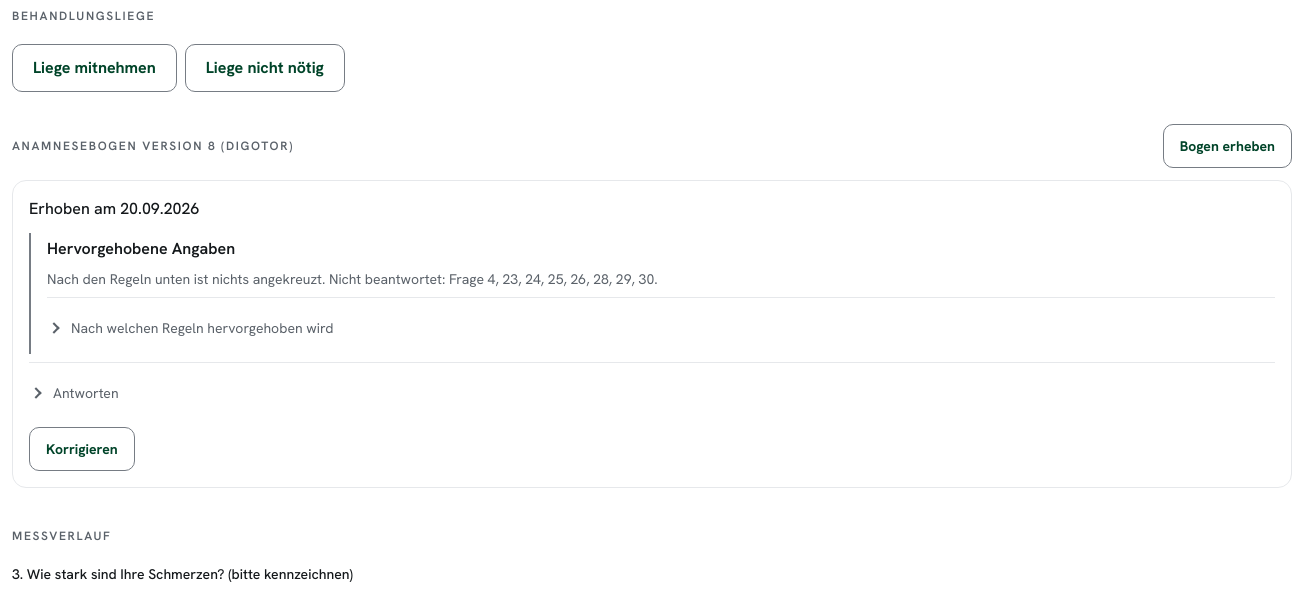
Befund der Akte › zeigt die Antworten wörtlich und die offenen Fragen als Nummern
The width and height of the screenshot is (1292, 593).
Click the heading "Antworten" at (74, 393), box [30,384,119,402]
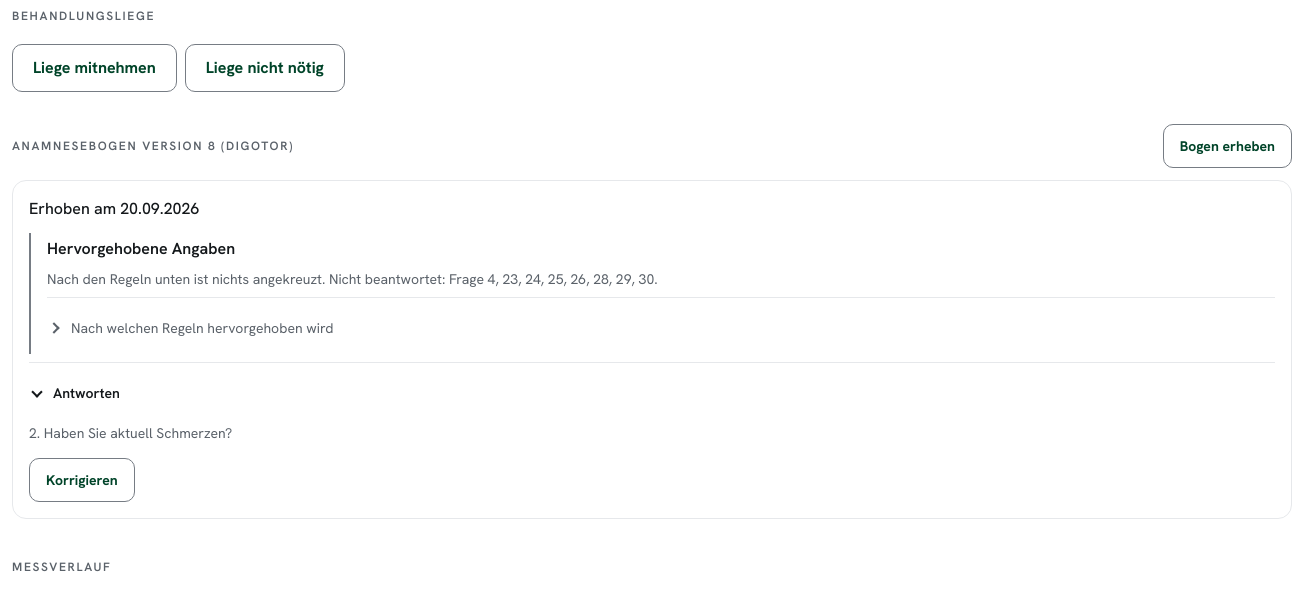
expect the text "2. Haben Sie aktuell Schmerzen?" is shown: met, box [29,424,232,442]
expect the text "ja" is shown: met, box [29,444,40,464]
expect the text "6 von 10" is shown: met, box [29,498,86,518]
